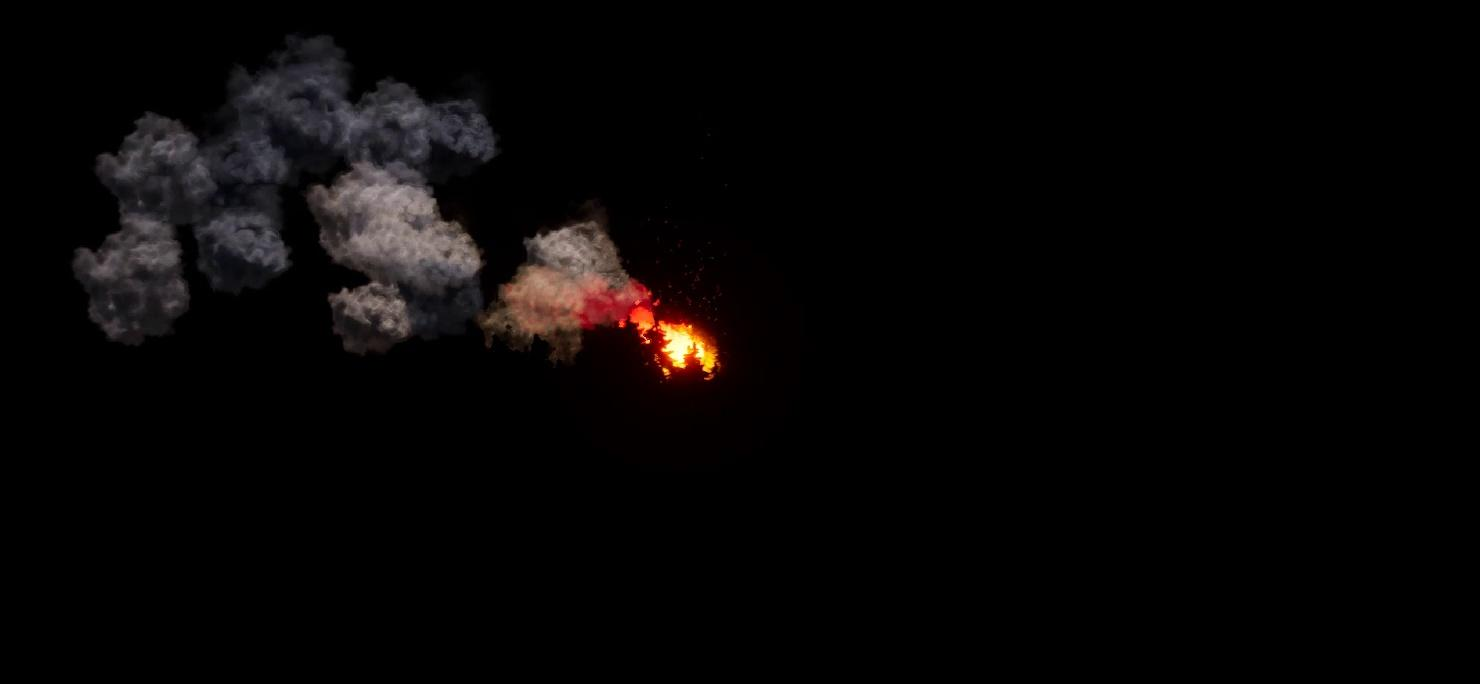fire: (577, 278, 718, 378)
smoke: (70, 42, 634, 332)
